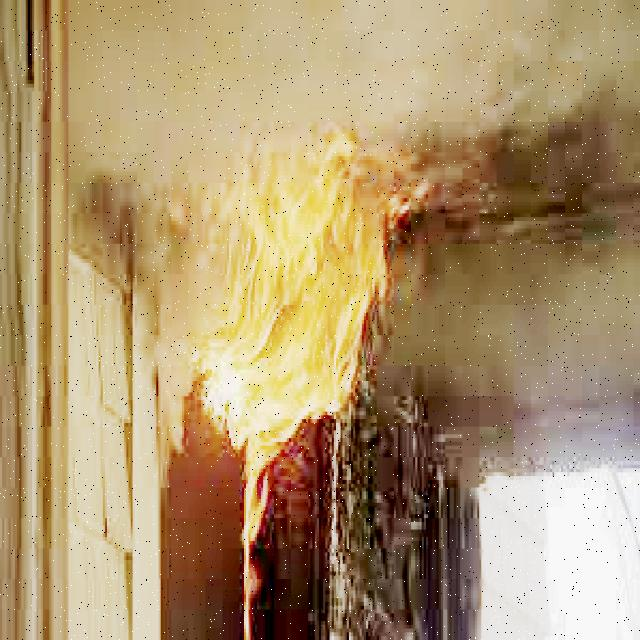api: (183, 120, 431, 466)
